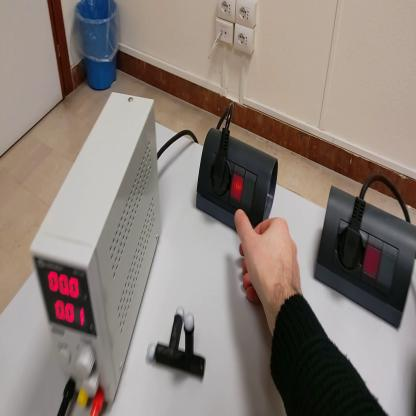hand: (236, 210, 302, 316)
power supply: (31, 80, 165, 410)
socket: (315, 186, 415, 330), (195, 128, 279, 235)
